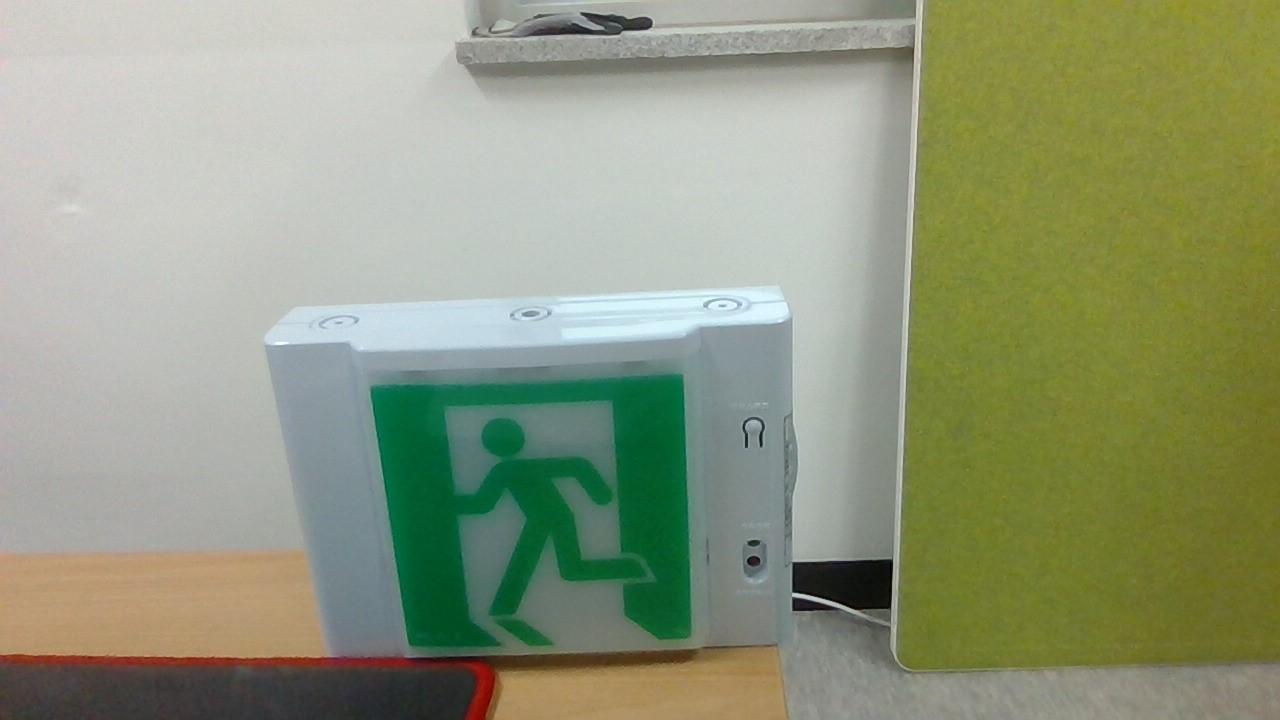emergency_exit: (263, 285, 797, 662), (368, 369, 706, 656)
